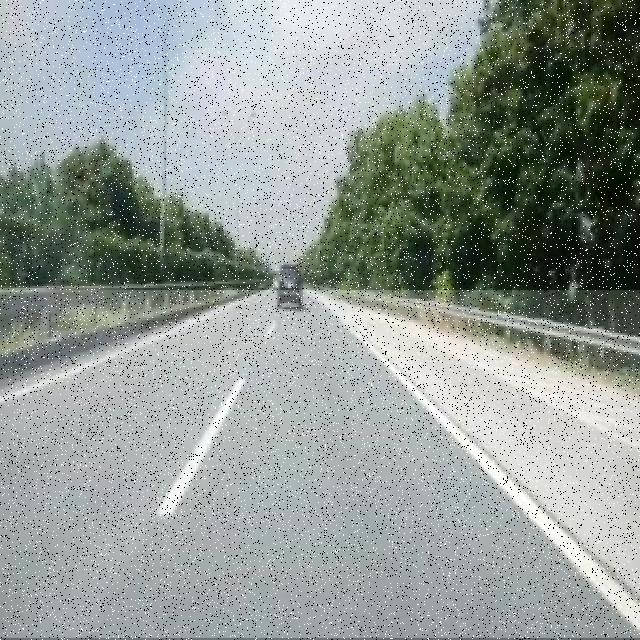clear-road: (0, 291, 640, 640)
